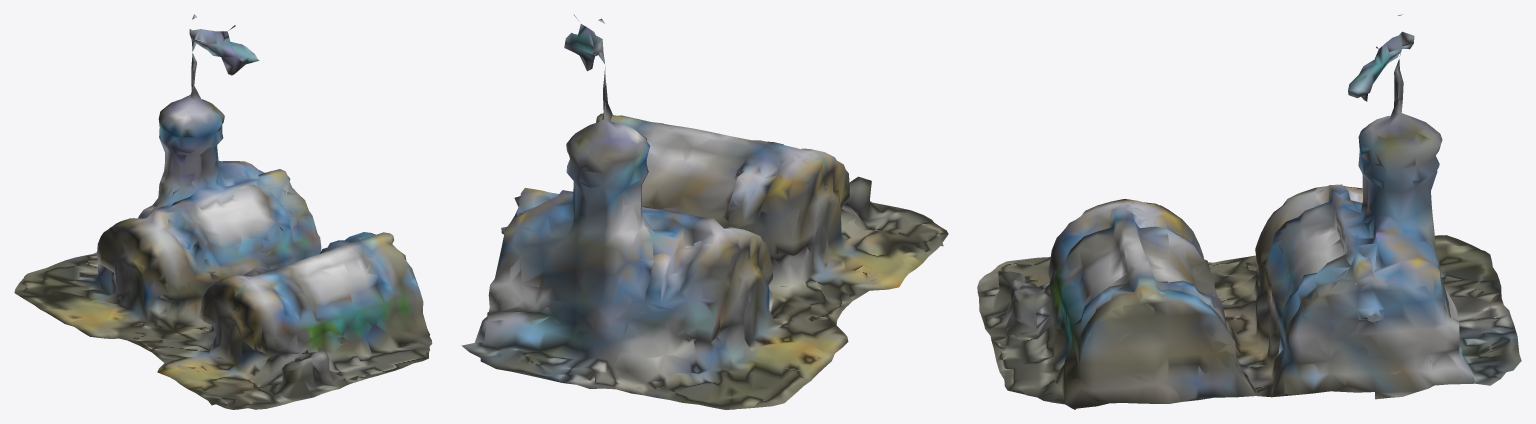
The model's file is allied_barracks.glb.
The picture shows the model from 3 angles, left to right: view 1: azimuth 30°, elevation 25°; view 2: azimuth 150°, elevation 25°; view 3: azimuth 270°, elevation 25°; orthographic projection. The views are drawn at different scales.
Parts seen in each view (by area): view 1: allied_barracks; view 2: allied_barracks; view 3: allied_barracks.
Part boxes in pixels (box(x1,y1,x2,y2)): allied_barracks: box(14, 14, 432, 409); allied_barracks: box(461, 14, 948, 409); allied_barracks: box(977, 14, 1521, 409).
Bounding box in the file's own units: 1.61 × 1.44 × 2.16.
